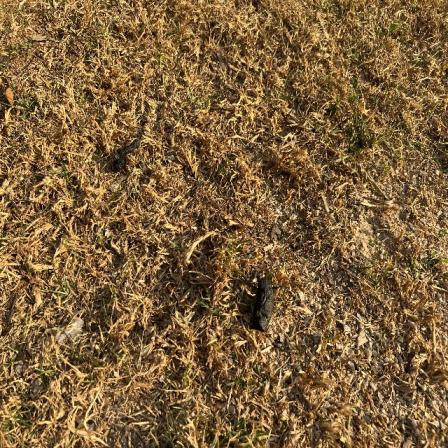dog-poop: (252, 271, 278, 333), (108, 136, 142, 180)
